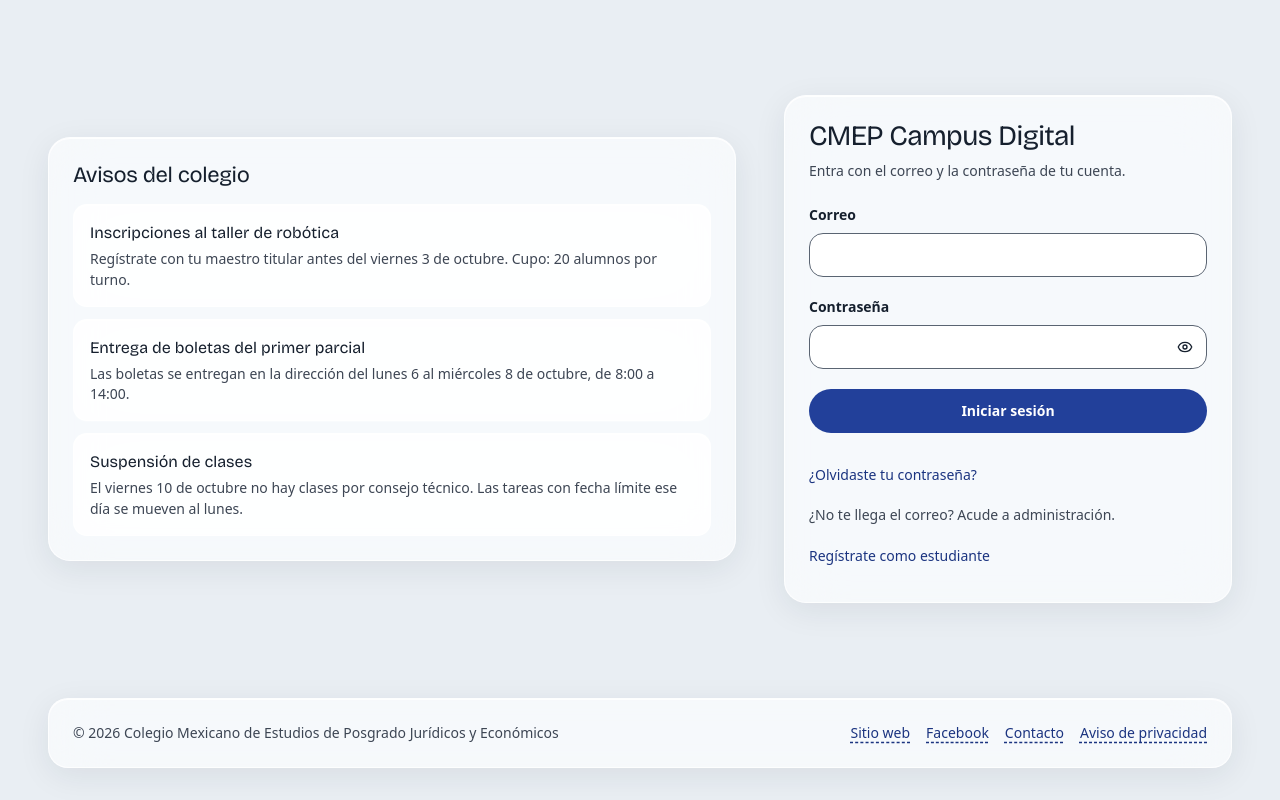
Test: ataque (AUTH-03a r1): el login y el registro salen de la caché (§D-A3) › login con 429 DEMASIADOS_INTENTOS: alerta y la contraseña fuera de la caché
Check: the button "Iniciar sesión" is shown, box [809,389,1207,433]
In the field labelled "Correo": (1008, 255) [809,233,1207,277], type "ana@ejemplo.mx"
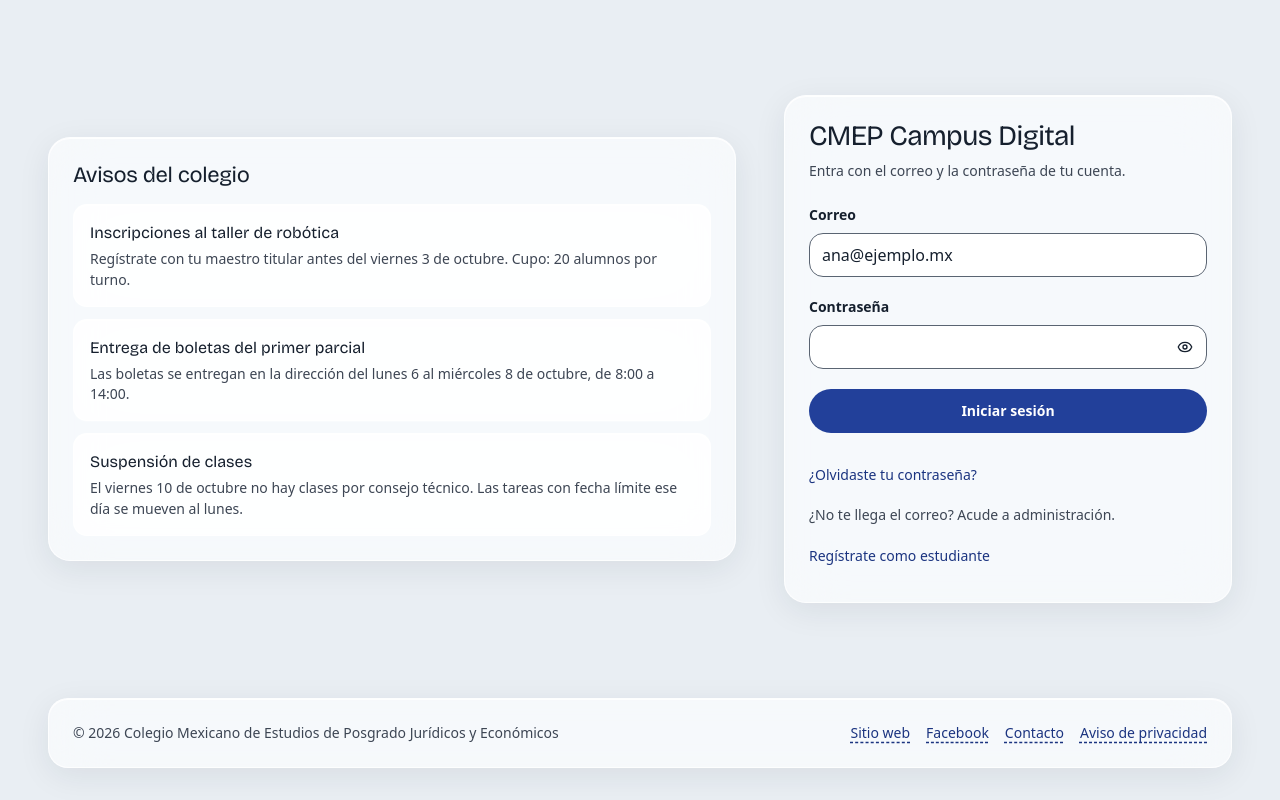
In the password field labelled "Contraseña": (1008, 347) [809,325,1207,369], type "mi-clave-propia-r1-03a"
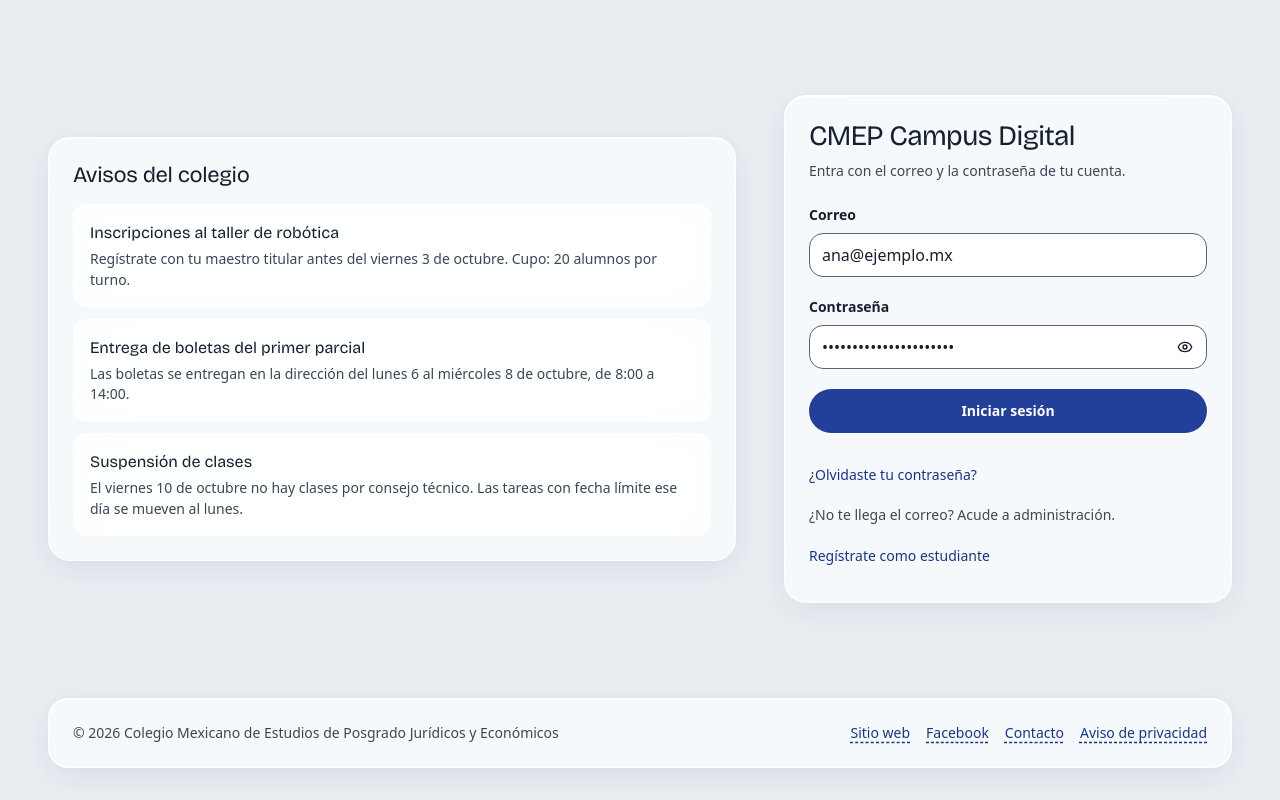
Click the button "Iniciar sesión": (1008, 411) [809,389,1207,433]
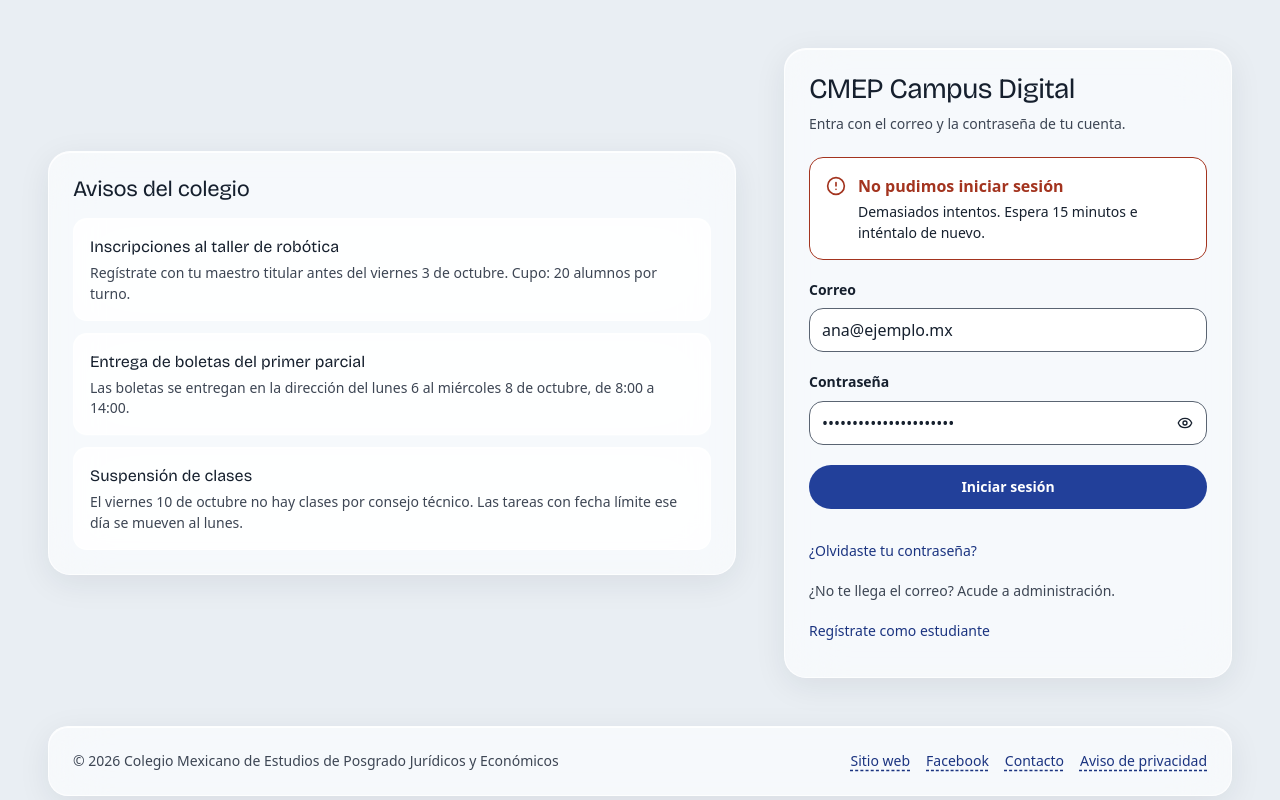
Check: the message is shown, box [809,158,1207,260]
